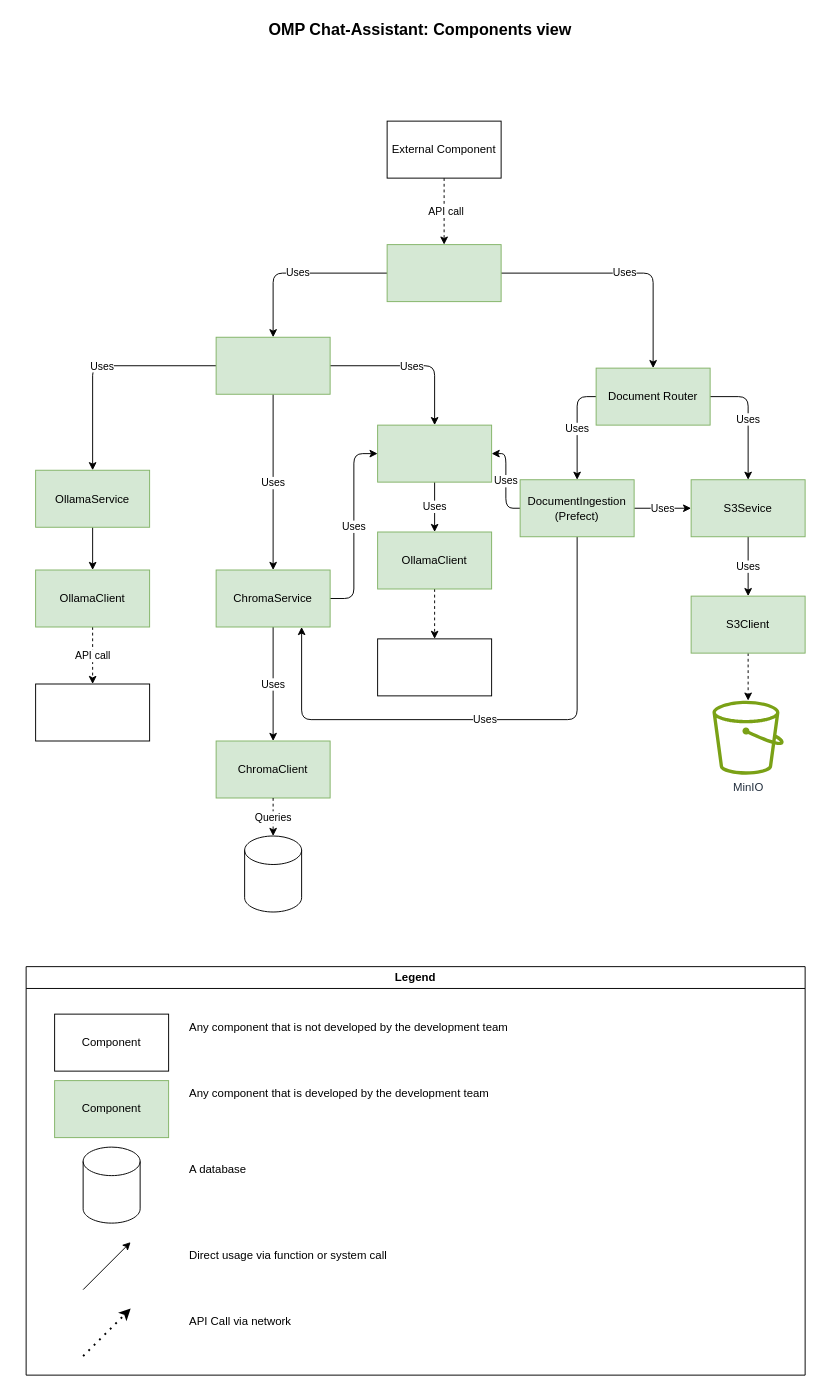
This 840x1392 diagram has some shape labels left out. The shapes that lost their labels are listed below. From the top down, each one's box as (x1, y1, x2, y2) in pixels, then its label:
(386, 244, 501, 302): API Router
(215, 336, 330, 394): Chat Router
(377, 424, 492, 482): EmbeddingService
(377, 638, 492, 696): Embedding Model
(35, 683, 150, 741): Chat Model
(244, 835, 302, 912): ChromaDB
(82, 1146, 140, 1223): Database
